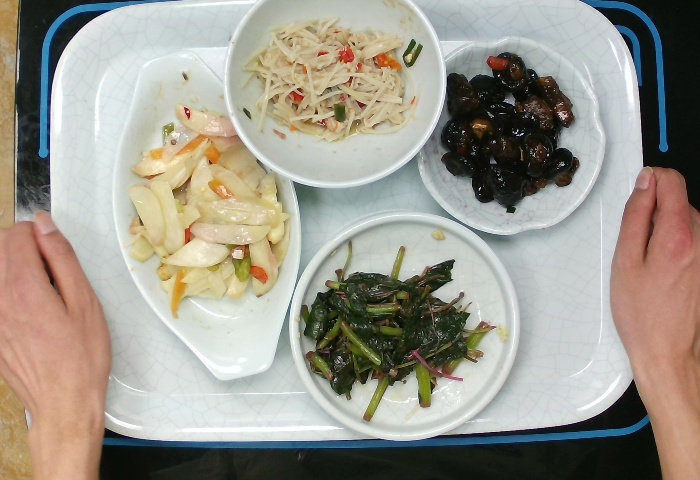JYsf-Ao_Yuan_Wan: (416, 43, 607, 238)
JYsf-Fan_Wan: (218, 1, 442, 190)
JYsf-Xiao_Yuan_Pan: (291, 217, 521, 438)
JYsf-Yu_Pan: (106, 49, 302, 383)
